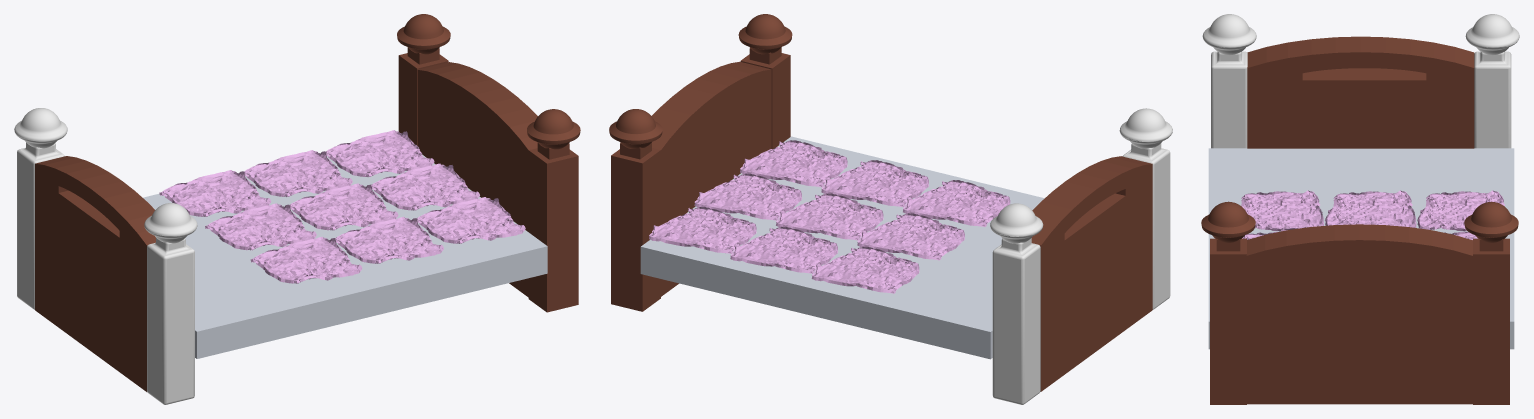
File: Bed4.fbx
3 views of the same model, side by side, from view 1: azimuth 30°, elevation 25°; view 2: azimuth 150°, elevation 25°; view 3: azimuth 270°, elevation 25° (orthographic).
Parts seen in each view (by area): view 1: BedSphere.003; view 2: BedSphere.003; view 3: BedSphere.003.
Boxes of the visible parts, x1,y1,x2,y2 form: BedSphere.003: (14,14,580,404); BedSphere.003: (609,14,1172,404); BedSphere.003: (1201,14,1519,404).
Bounding box in the file's own units: 182 × 78.1 × 116.
